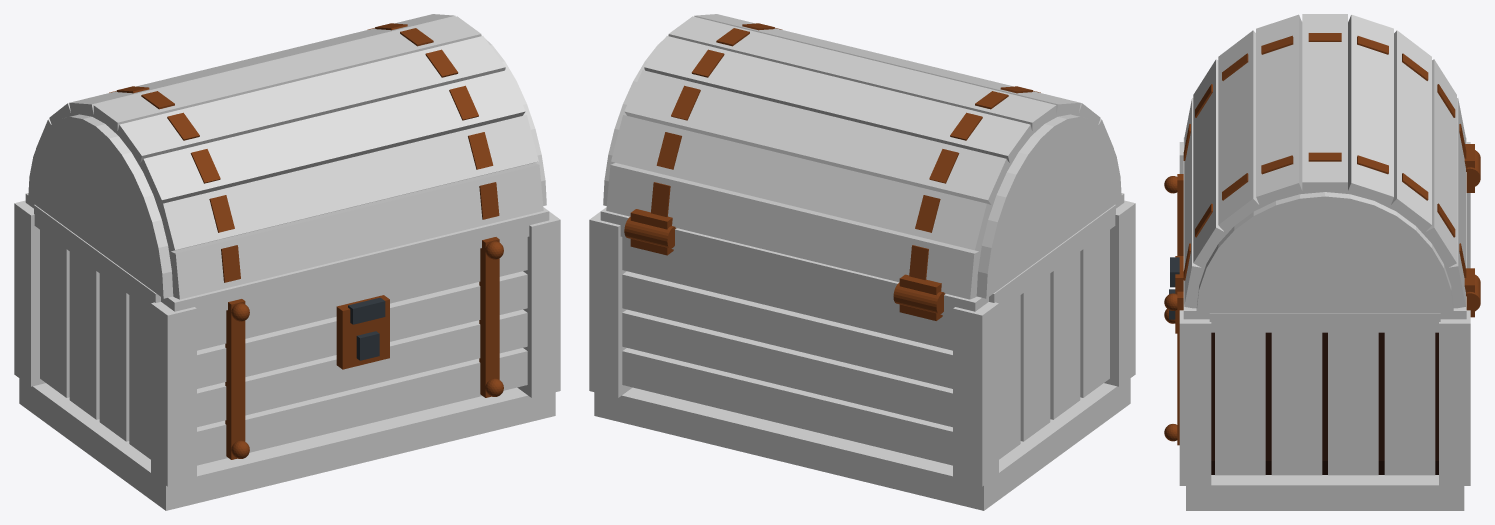
File: animated_wooden_chest.glb
3 renders of one model, left to right at view 1: azimuth 30°, elevation 25°; view 2: azimuth 150°, elevation 25°; view 3: azimuth 270°, elevation 25°, orthographic. The views are drawn at different scales.
Visible parts, largest first — view 1: TreasureChest_Base_Frame, TreasureChest_Lid_Wood_Slat_9, TreasureChest_Lid_Wood_Slat_8, TreasureChest_Lid_Wood_Slat_7, TreasureChest_Lid_Left_EndCap, TreasureChest_Lid_Wood_Slat_6, TreasureChest_Front_Plank_1, TreasureChest_Front_Plank_2, TreasureChest_Front_Plank_3, TreasureChest_Front_Plank_4, TreasureChest_Lid_Wood_Slat_5, TreasureChest_Corner_Post_L_F (+21 smaller); view 2: TreasureChest_Base_Frame, TreasureChest_Lid_Wood_Slat_2, TreasureChest_Lid_Wood_Slat_3, TreasureChest_Lid_Wood_Slat_1, TreasureChest_Lid_Left_EndCap, TreasureChest_Lid_Wood_Slat_4, TreasureChest_Back_Plank_2, TreasureChest_Back_Plank_3, TreasureChest_Back_Plank_1, TreasureChest_Back_Plank_4, TreasureChest_Lid_Wood_Slat_5, TreasureChest_Corner_Post_L_B (+18 smaller); view 3: TreasureChest_Lid_Right_EndCap, TreasureChest_Base_Frame, TreasureChest_Lid_Wood_Slat_6, TreasureChest_Lid_Wood_Slat_4, TreasureChest_Lid_Wood_Slat_5, TreasureChest_Right_SidePlank_2, TreasureChest_Right_SidePlank_4, TreasureChest_Right_SidePlank_1, TreasureChest_Right_SidePlank_3, TreasureChest_Lid_Wood_Slat_7, TreasureChest_Lid_Wood_Slat_3, TreasureChest_Corner_Post_R_F (+14 smaller).
Boxes of the visible parts, left/top/right/bottom form: TreasureChest_Base_Frame: left=19, top=378, right=555, bottom=510; TreasureChest_Lid_Wood_Slat_9: left=169, top=163, right=543, bottom=299; TreasureChest_Lid_Wood_Slat_8: left=157, top=115, right=538, bottom=251; TreasureChest_Lid_Wood_Slat_7: left=139, top=70, right=525, bottom=206; TreasureChest_Lid_Left_EndCap: left=28, top=114, right=173, bottom=298; TreasureChest_Lid_Wood_Slat_6: left=117, top=36, right=505, bottom=165; TreasureChest_Front_Plank_1: left=197, top=348, right=527, bottom=465; TreasureChest_Front_Plank_2: left=197, top=309, right=527, bottom=427; TreasureChest_Front_Plank_3: left=197, top=271, right=527, bottom=388; TreasureChest_Front_Plank_4: left=197, top=237, right=527, bottom=350; TreasureChest_Lid_Wood_Slat_5: left=93, top=16, right=481, bottom=134; TreasureChest_Corner_Post_L_F: left=151, top=302, right=196, bottom=486; TreasureChest_Base_Frame: left=594, top=378, right=1130, bottom=510; TreasureChest_Lid_Wood_Slat_2: left=611, top=115, right=992, bottom=251; TreasureChest_Lid_Wood_Slat_3: left=624, top=70, right=1010, bottom=205; TreasureChest_Lid_Wood_Slat_1: left=606, top=163, right=980, bottom=299; TreasureChest_Lid_Left_EndCap: left=976, top=114, right=1121, bottom=298; TreasureChest_Lid_Wood_Slat_4: left=644, top=36, right=1032, bottom=164; TreasureChest_Back_Plank_2: left=622, top=309, right=952, bottom=427; TreasureChest_Back_Plank_3: left=622, top=271, right=952, bottom=388; TreasureChest_Back_Plank_1: left=622, top=348, right=952, bottom=465; TreasureChest_Back_Plank_4: left=622, top=237, right=952, bottom=350; TreasureChest_Lid_Wood_Slat_5: left=668, top=16, right=1056, bottom=133; TreasureChest_Corner_Post_L_B: left=953, top=302, right=998, bottom=486; TreasureChest_Lid_Right_EndCap: left=1196, top=192, right=1453, bottom=312; TreasureChest_Base_Frame: left=1186, top=475, right=1464, bottom=510; TreasureChest_Lid_Wood_Slat_6: left=1256, top=14, right=1302, bottom=207; TreasureChest_Lid_Wood_Slat_4: left=1347, top=14, right=1393, bottom=207; TreasureChest_Lid_Wood_Slat_5: left=1302, top=14, right=1347, bottom=193; TreasureChest_Right_SidePlank_2: left=1271, top=332, right=1322, bottom=475; TreasureChest_Right_SidePlank_4: left=1384, top=332, right=1435, bottom=475; TreasureChest_Right_SidePlank_1: left=1215, top=332, right=1265, bottom=475; TreasureChest_Right_SidePlank_3: left=1328, top=332, right=1378, bottom=475; TreasureChest_Lid_Wood_Slat_7: left=1218, top=30, right=1260, bottom=233; TreasureChest_Lid_Wood_Slat_3: left=1389, top=30, right=1431, bottom=233; TreasureChest_Corner_Post_R_F: left=1179, top=310, right=1211, bottom=485.
Size of the model in its own units: 3.65 by 3.04 by 2.68.
